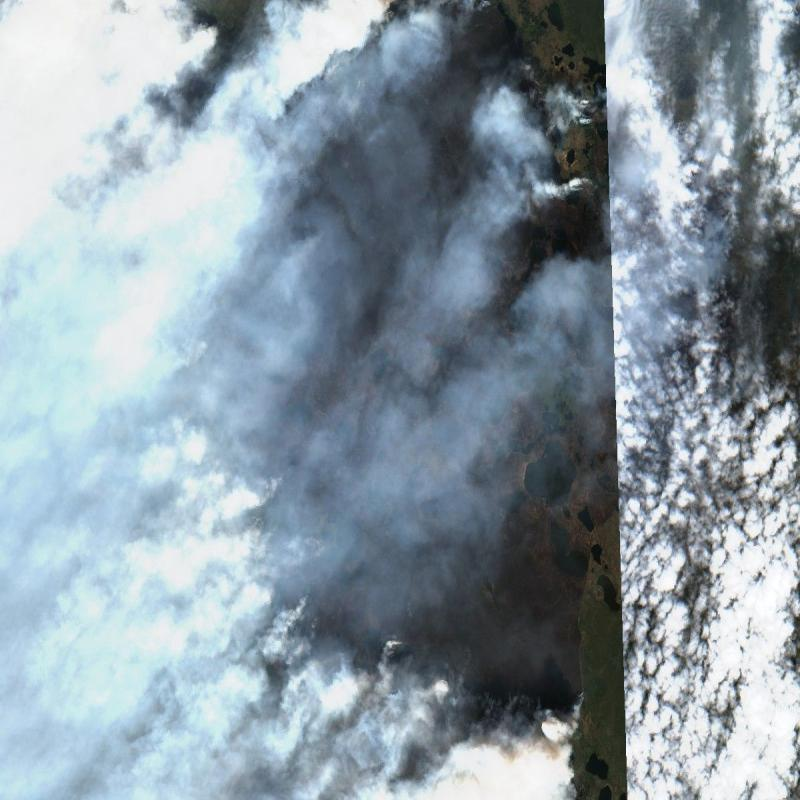fire: (172, 459, 599, 800), (161, 0, 604, 213)
